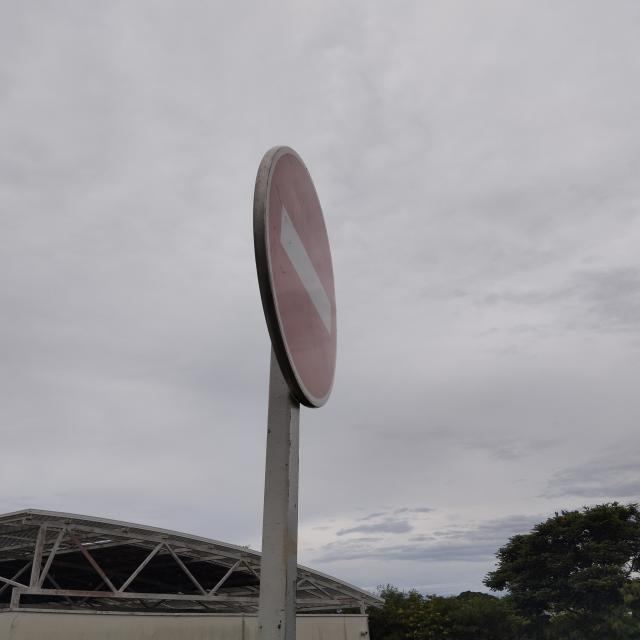Sens-Interdit: (252, 146, 338, 409)
